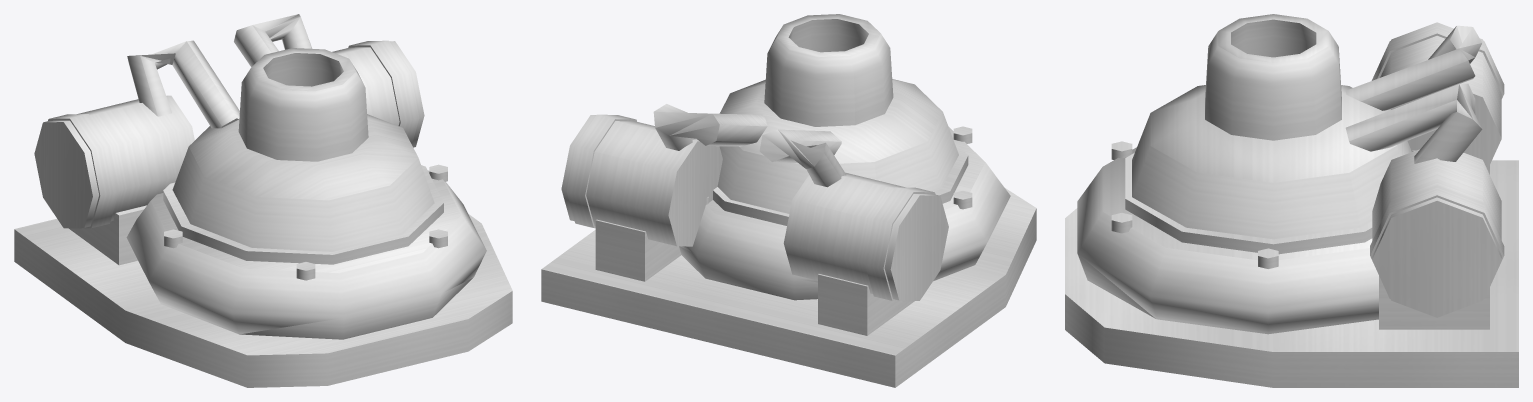
Rendered from toxifier_generator.obj.
3 views of the same model, side by side, from view 1: azimuth 30°, elevation 25°; view 2: azimuth 150°, elevation 25°; view 3: azimuth 270°, elevation 25° (orthographic). The views are drawn at different scales.
Parts seen in each view (by area): view 1: source_component_000, source_component_001, source_component_002, source_component_004, source_component_012, source_component_015, source_component_003, source_component_016, source_component_013, source_component_019, source_component_017, source_component_014; view 2: source_component_000, source_component_002, source_component_012, source_component_016, source_component_001, source_component_004, source_component_019, source_component_018, source_component_014, source_component_015, source_component_013, source_component_017 (+1 smaller); view 3: source_component_000, source_component_002, source_component_001, source_component_016, source_component_004, source_component_019, source_component_015, source_component_003, source_component_012, source_component_018, source_component_017, source_component_013 (+2 smaller).
Boxes of the visible parts, left/top/right/bottom form: source_component_000: left=14, top=214, right=512, bottom=387; source_component_001: left=126, top=170, right=486, bottom=339; source_component_002: left=172, top=114, right=434, bottom=251; source_component_004: left=238, top=48, right=368, bottom=161; source_component_012: left=34, top=95, right=194, bottom=228; source_component_015: left=127, top=40, right=239, bottom=128; source_component_003: left=163, top=165, right=443, bottom=264; source_component_016: left=332, top=41, right=424, bottom=147; source_component_013: left=48, top=114, right=118, bottom=228; source_component_019: left=234, top=14, right=312, bottom=66; source_component_017: left=348, top=40, right=419, bottom=144; source_component_014: left=69, top=205, right=146, bottom=265; source_component_000: left=541, top=188, right=1036, bottom=387; source_component_002: left=717, top=79, right=958, bottom=213; source_component_012: left=783, top=172, right=948, bottom=300; source_component_016: left=561, top=115, right=722, bottom=246; source_component_001: left=679, top=126, right=1010, bottom=300; source_component_004: left=764, top=14, right=893, bottom=126; source_component_019: left=653, top=104, right=767, bottom=150; source_component_018: left=595, top=219, right=681, bottom=281; source_component_014: left=818, top=274, right=914, bottom=335; source_component_015: left=759, top=129, right=846, bottom=187; source_component_013: left=865, top=187, right=935, bottom=301; source_component_017: left=566, top=114, right=636, bottom=228; source_component_000: left=1065, top=160, right=1518, bottom=387; source_component_002: left=1132, top=85, right=1411, bottom=239; source_component_001: left=1077, top=147, right=1378, bottom=334; source_component_016: left=1372, top=149, right=1501, bottom=317; source_component_004: left=1205, top=14, right=1341, bottom=140; source_component_019: left=1345, top=83, right=1482, bottom=163; source_component_015: left=1345, top=25, right=1482, bottom=110; source_component_003: left=1125, top=153, right=1372, bottom=254; source_component_012: left=1380, top=22, right=1501, bottom=169; source_component_018: left=1379, top=276, right=1489, bottom=329; source_component_017: left=1370, top=185, right=1504, bottom=298; source_component_013: left=1371, top=23, right=1504, bottom=98.
Size of the model in its own units: 1.72 by 1.06 by 1.72.
